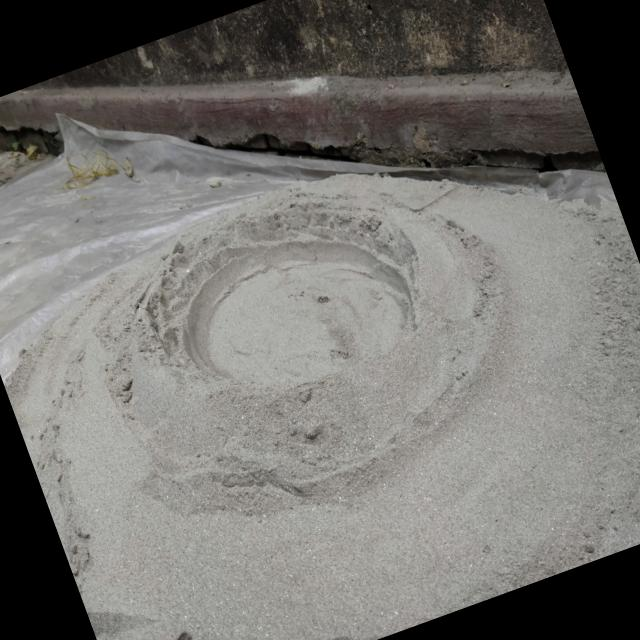C40: (178, 213, 417, 384)
